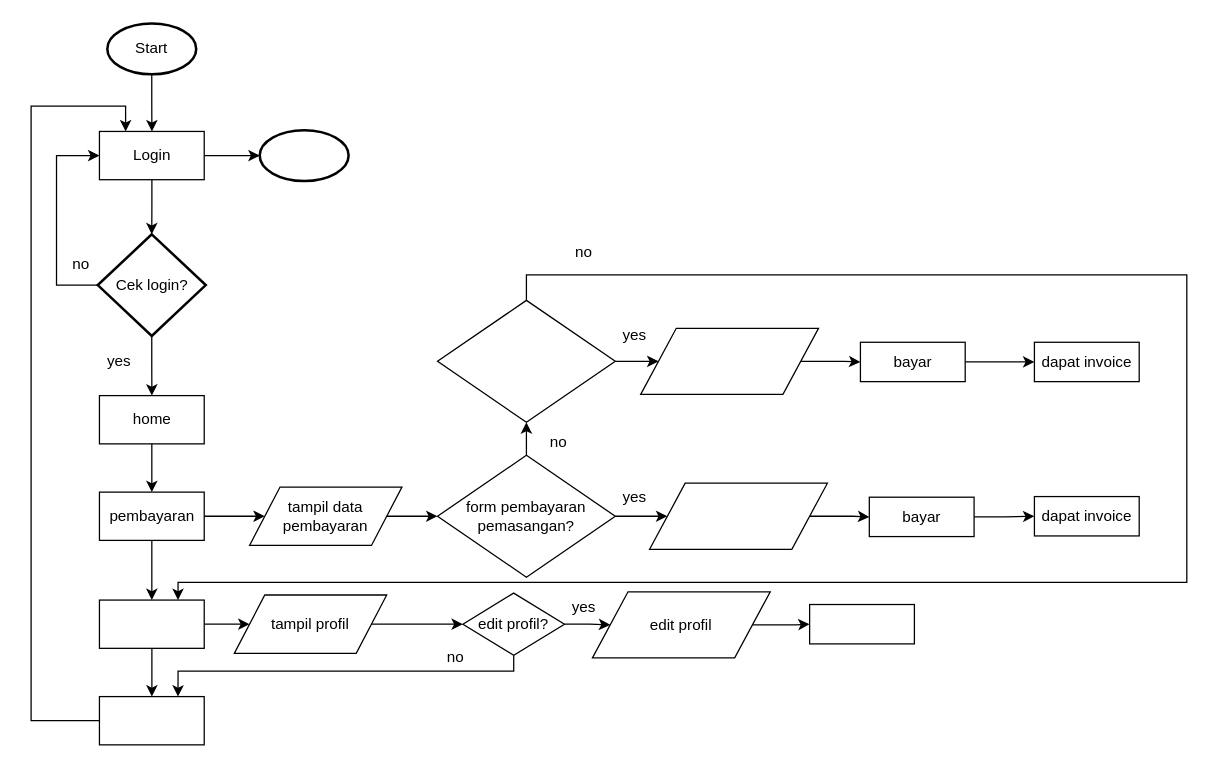
This 1219x767 diagram has some shape labels left out. The shapes that lost their labels are listed below. From the top down, each one's box as (x1, y1, x2, y2) in pixels, then its label:
(258, 128, 349, 182): Stop
(436, 299, 615, 422): form pembayaran perbulan?
(639, 327, 819, 394): input pembayaran perbulan
(648, 482, 827, 549): input pembayaran pemasangan
(98, 599, 204, 648): profil
(808, 603, 914, 644): simpan
(98, 695, 204, 745): logout
